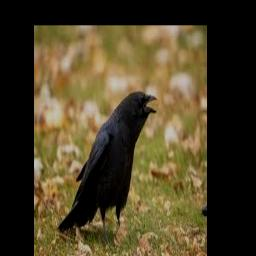Crow: (58, 91, 157, 245)
